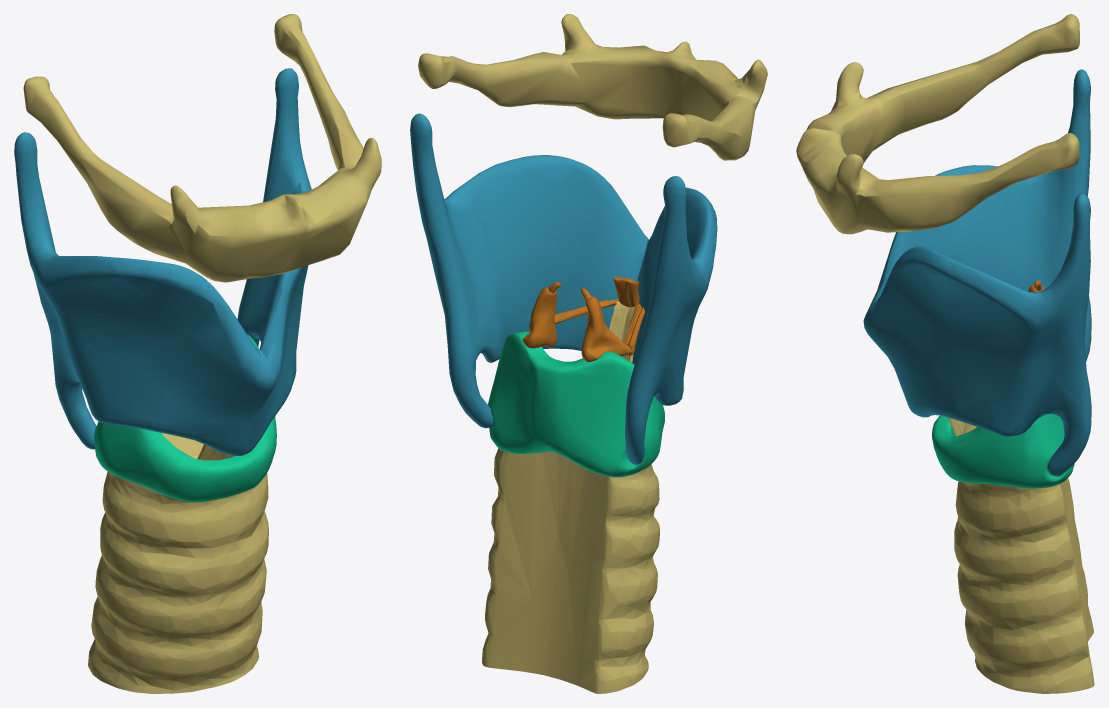
Rendered from fbx_frame_0013.obj.
3 views of the same model, side by side, from view 1: azimuth 30°, elevation 25°; view 2: azimuth 150°, elevation 25°; view 3: azimuth 270°, elevation 25° (orthographic). The views are drawn at different scales.
Visible parts, largest first — view 1: maya2sketchfab.010, maya2sketchfab.001, maya2sketchfab.011, maya2sketchfab.005; view 2: maya2sketchfab.010, maya2sketchfab.001, maya2sketchfab.011, maya2sketchfab.005, maya2sketchfab.004, maya2sketchfab.006, maya2sketchfab.007; view 3: maya2sketchfab.010, maya2sketchfab.001, maya2sketchfab.011, maya2sketchfab.005.
Boxes of the visible parts, x1,y1,x2,y2 form: maya2sketchfab.010: (14, 68, 311, 455); maya2sketchfab.001: (88, 433, 268, 693); maya2sketchfab.011: (23, 14, 381, 282); maya2sketchfab.005: (94, 334, 276, 502); maya2sketchfab.010: (410, 113, 717, 464); maya2sketchfab.001: (482, 301, 659, 693); maya2sketchfab.011: (418, 14, 767, 160); maya2sketchfab.005: (488, 331, 664, 477); maya2sketchfab.004: (581, 288, 634, 361); maya2sketchfab.006: (523, 282, 561, 348); maya2sketchfab.007: (613, 276, 639, 307); maya2sketchfab.010: (863, 69, 1091, 476); maya2sketchfab.001: (947, 417, 1094, 693); maya2sketchfab.011: (796, 14, 1079, 234); maya2sketchfab.005: (932, 414, 1074, 488).
Bounding box in the file's own units: 38.66 × 78.85 × 36.6.
